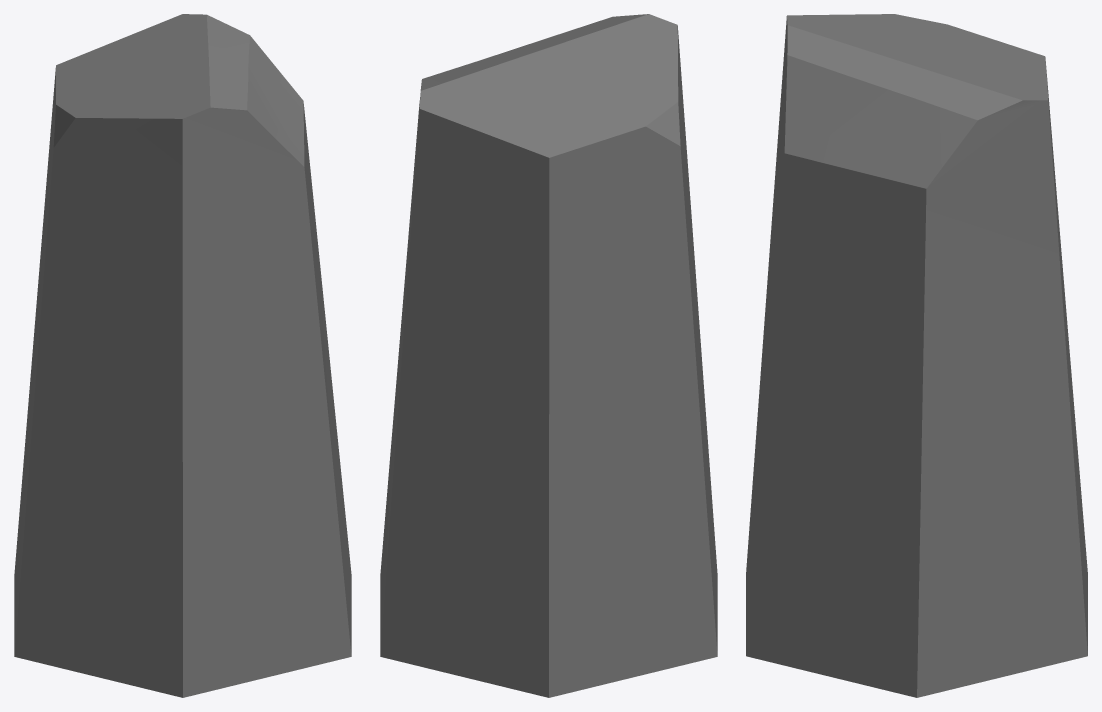
Rendered from rock7.fbx.
3 views of the same model, side by side, from view 1: azimuth 30°, elevation 25°; view 2: azimuth 150°, elevation 25°; view 3: azimuth 270°, elevation 25° (orthographic).
Parts seen in each view (by area): view 1: rock4; view 2: rock4; view 3: rock4.
Part boxes in pixels (<box>): rock4: <box>14,14,351,697</box>; rock4: <box>380,14,717,697</box>; rock4: <box>746,14,1087,697</box>.
Bounding box in the file's own units: 670 × 1070 × 580.
1 material, 1 textured.
